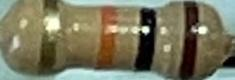Black: (133, 6, 157, 70)
Brown: (178, 2, 200, 80)
Orange: (96, 5, 119, 67)
Side-Gold: (40, 3, 61, 75)
